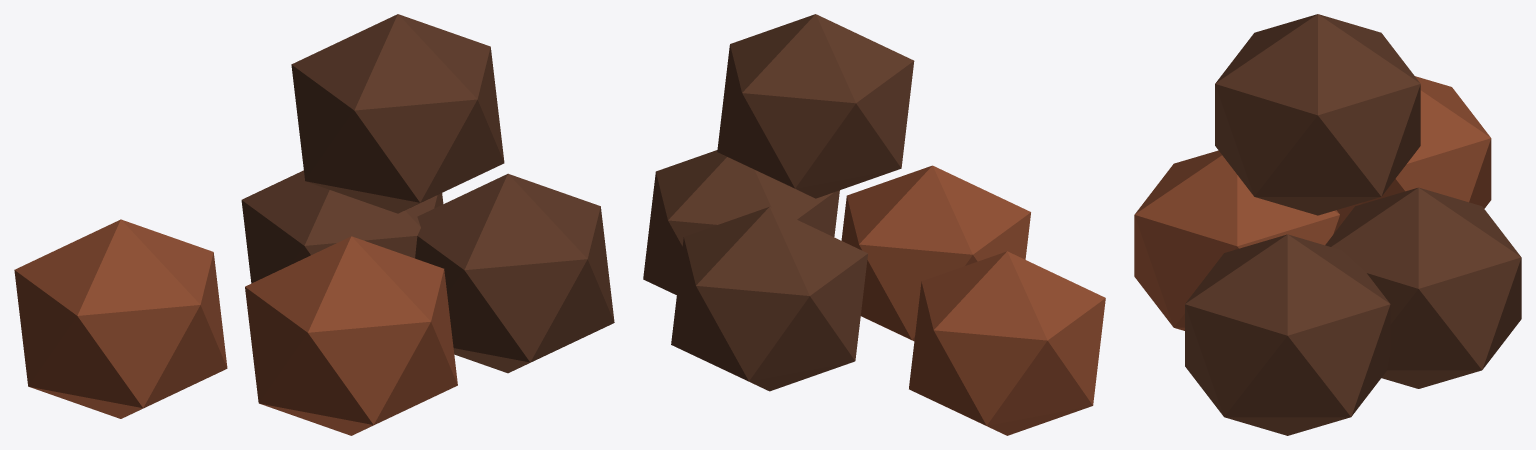
Rendered from Coconuts.glb.
3 views of the same model, side by side, from view 1: azimuth 30°, elevation 25°; view 2: azimuth 150°, elevation 25°; view 3: azimuth 270°, elevation 25° (orthographic). The views are drawn at different scales.
Parts seen in each view (by area): view 1: Coconuts; view 2: Coconuts; view 3: Coconuts.
Boxes of the visible parts, <box> form: Coconuts: <box>14,14,614,435</box>; Coconuts: <box>643,14,1105,435</box>; Coconuts: <box>1134,14,1521,435</box>.
Size of the model in its own units: 0.6047 by 0.4108 by 0.3842.
Materials: 1 (1 with a texture image).
